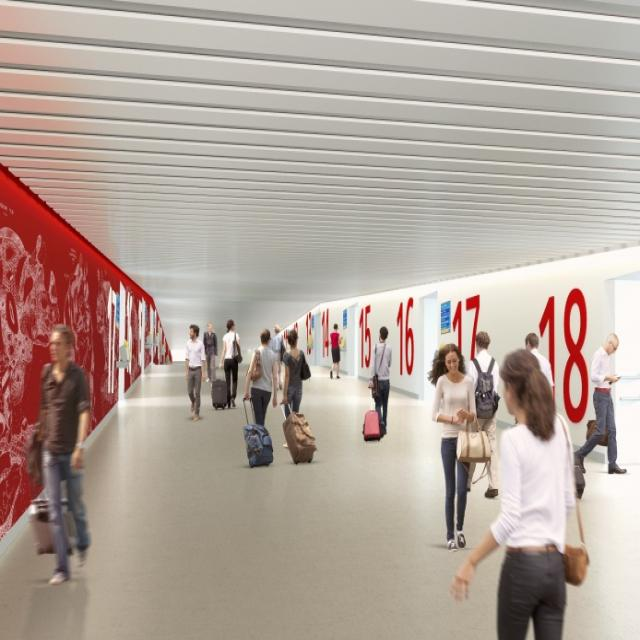body: (444, 345, 594, 639), (31, 320, 93, 590), (426, 340, 493, 554), (565, 329, 627, 478), (464, 329, 502, 501), (278, 326, 312, 449), (243, 326, 280, 428), (365, 324, 394, 440), (519, 330, 556, 406), (182, 322, 206, 422), (216, 317, 242, 409), (202, 319, 219, 387), (268, 324, 284, 392), (328, 322, 342, 379)
